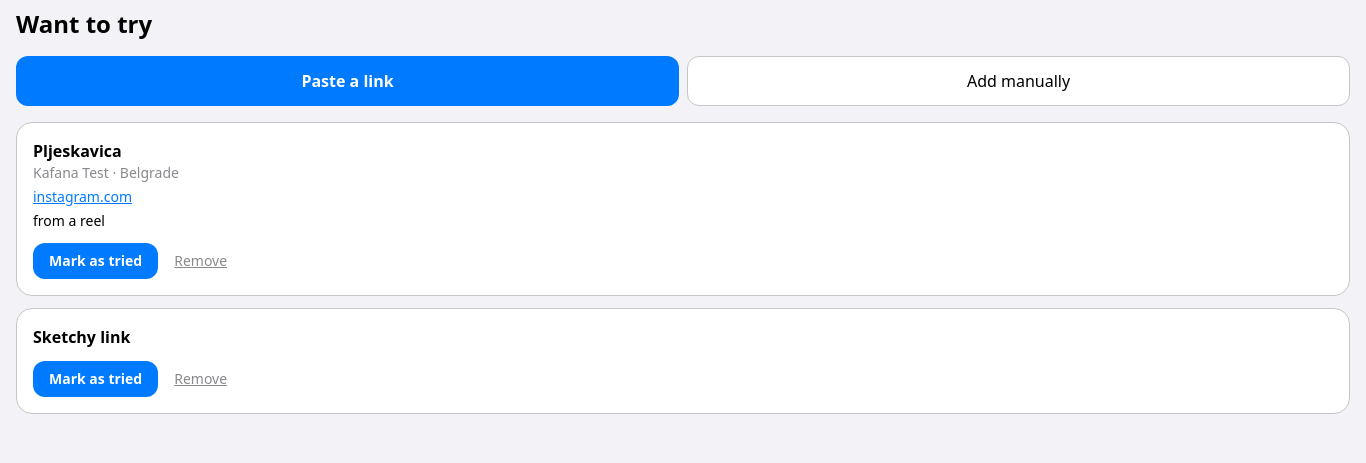
WantPage › explains when the clipboard has no link
Click the button "Paste a link" at x=348, y=81, box left=16, top=56, right=679, bottom=106
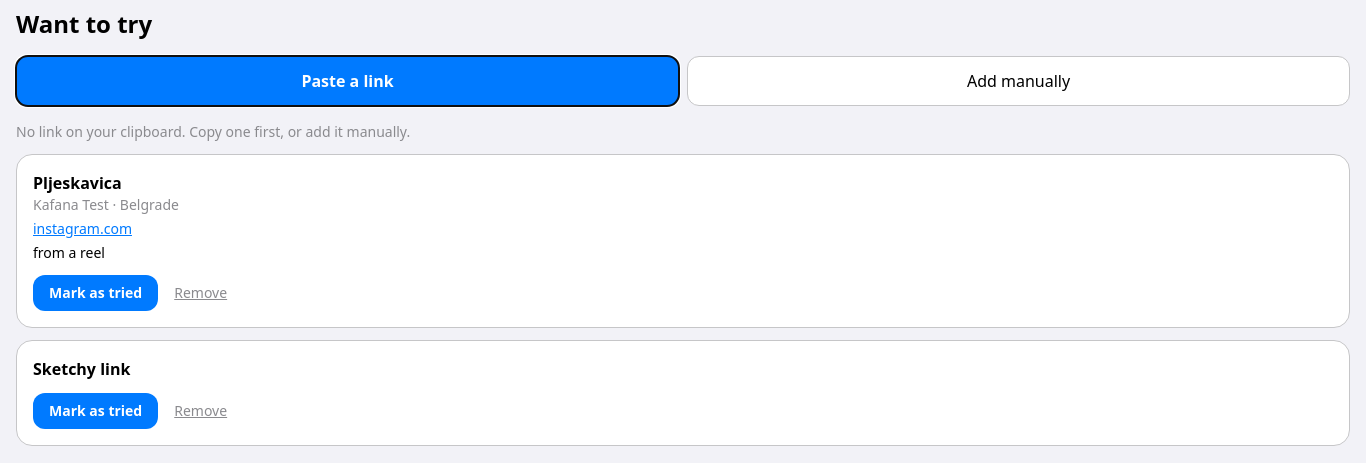
Expected: the message shows "No link on your clipboard", left=16, top=122, right=410, bottom=141
